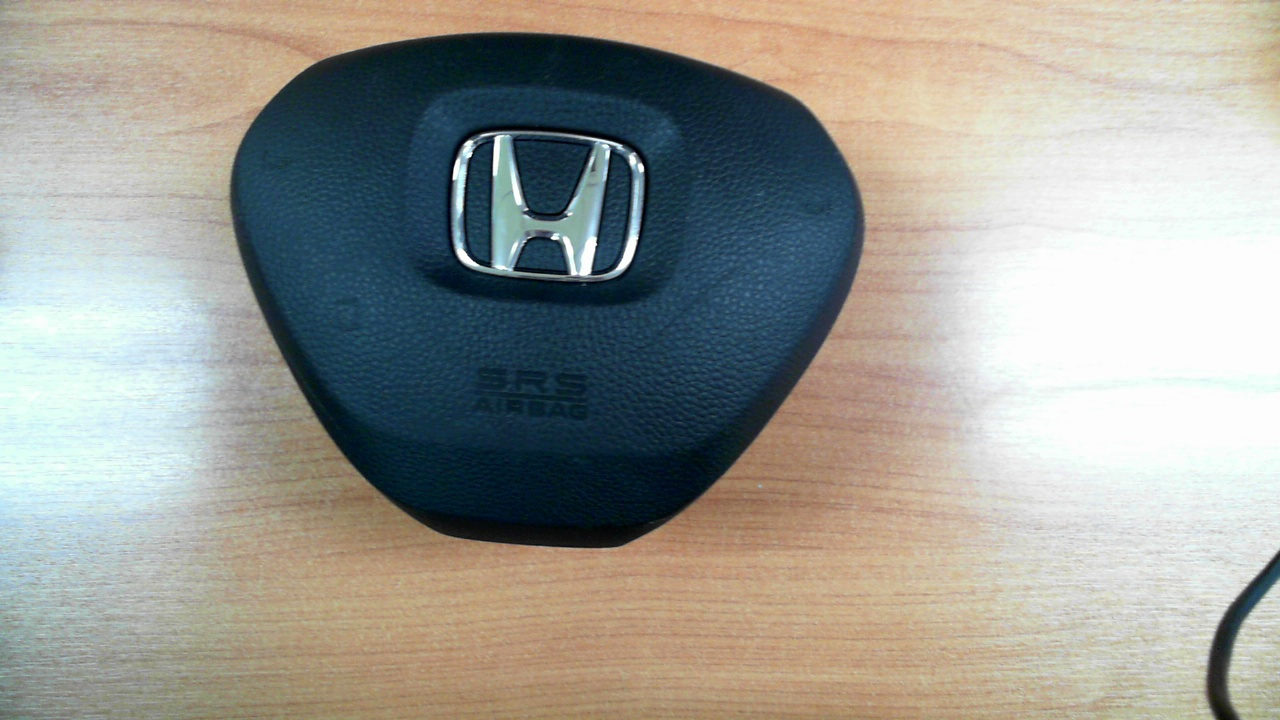Airbag: (228, 32, 866, 549)
Honda: (450, 130, 645, 283)
